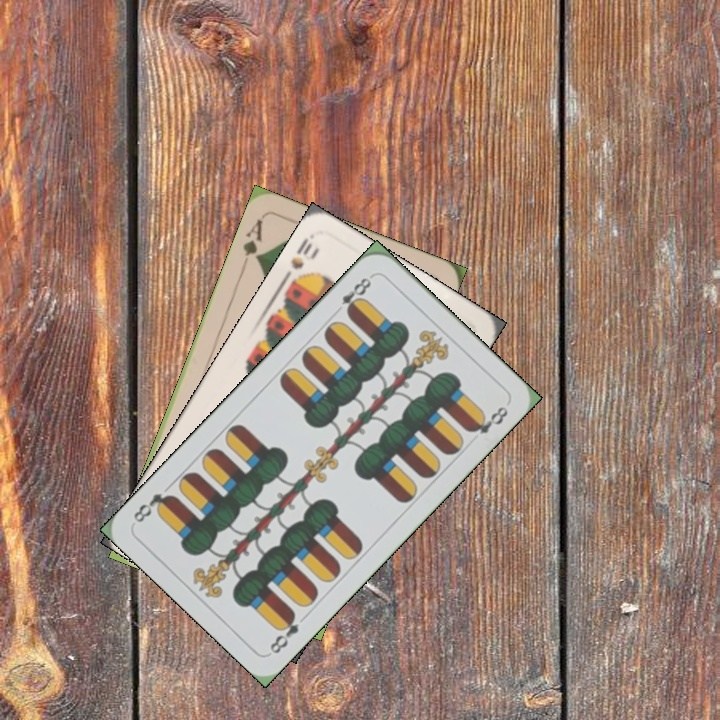E8: (330, 271, 376, 318), (265, 607, 302, 657)
GA: (237, 215, 266, 271)
S10: (279, 231, 317, 288)
